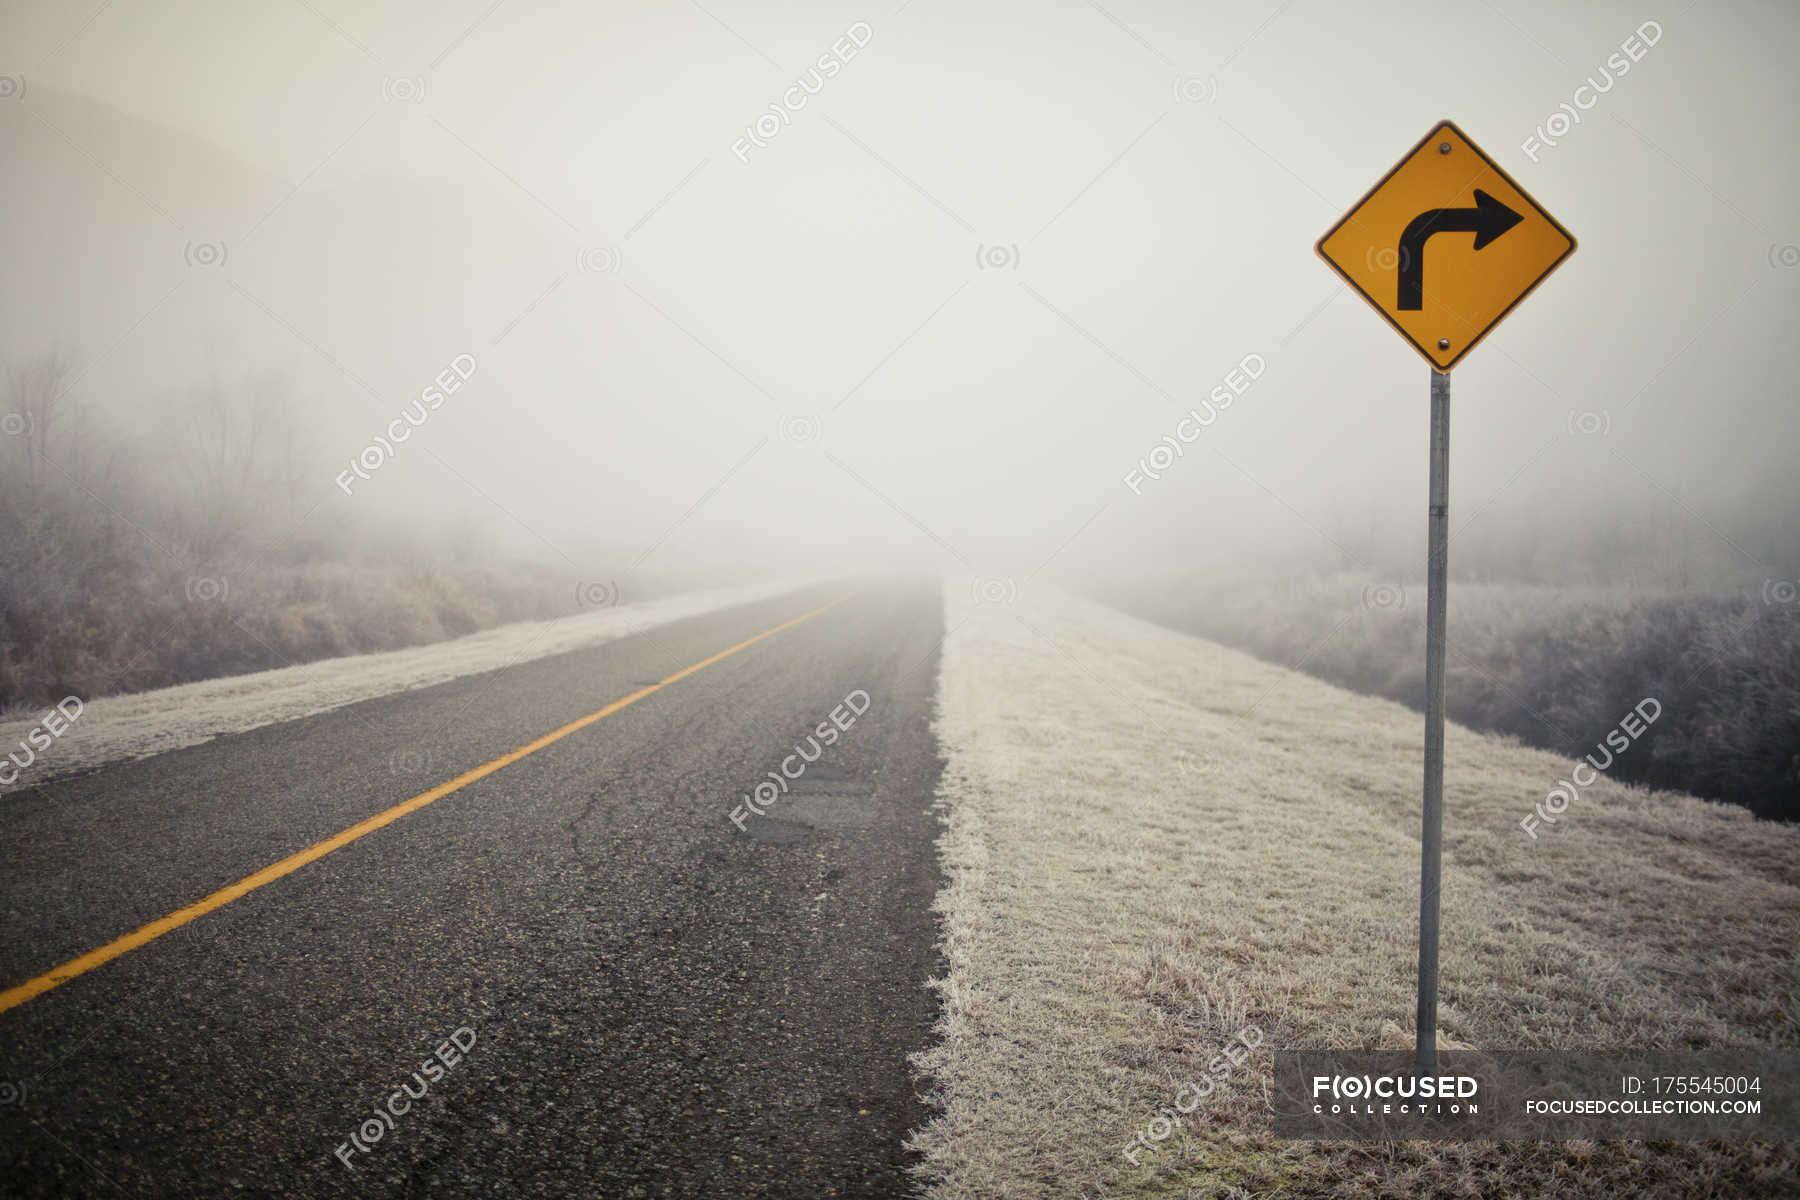right: (1298, 115, 1588, 372)
